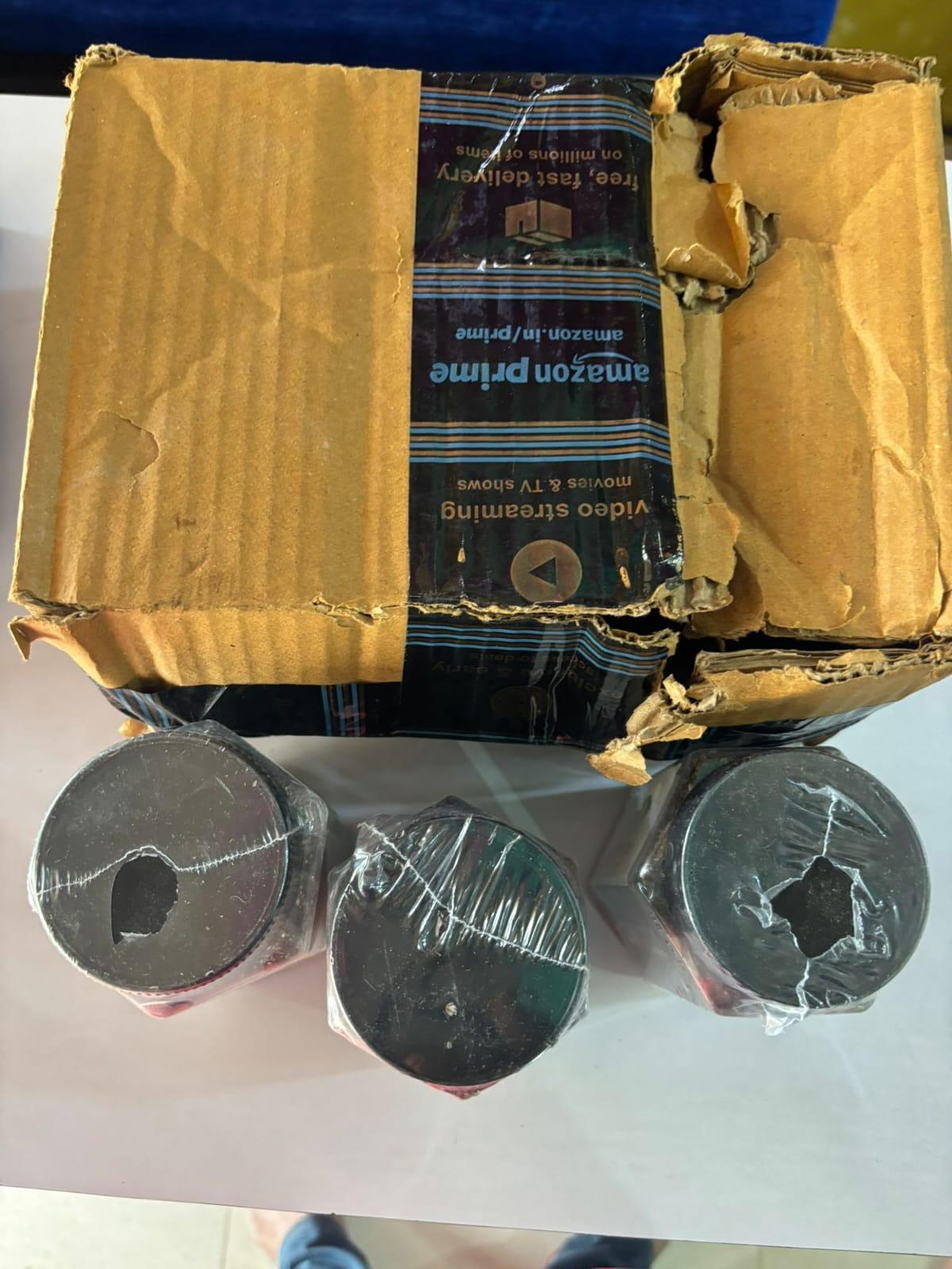damaged package: (457, 445, 947, 695), (641, 35, 933, 324)
undamaged: (0, 22, 950, 782)
